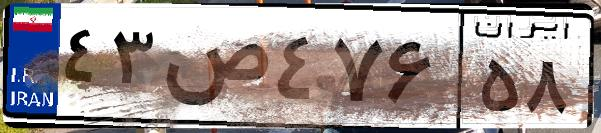3: (110, 28, 158, 98)
4: (270, 28, 330, 110), (57, 26, 110, 100)
5: (475, 38, 525, 113)
6: (385, 28, 445, 110)
7: (330, 28, 385, 110)
8: (525, 38, 570, 115)
ص: (158, 20, 270, 120)
